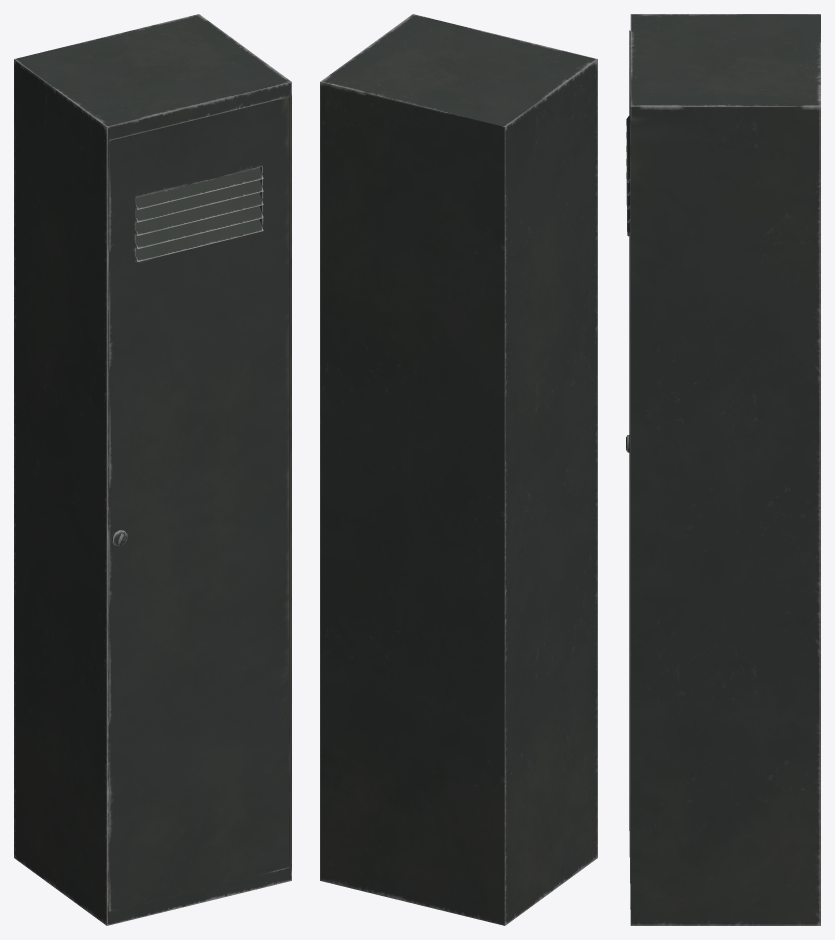
3 renders of one model, left to right at view 1: azimuth 30°, elevation 25°; view 2: azimuth 150°, elevation 25°; view 3: azimuth 270°, elevation 25°, orthographic. The views are drawn at different scales.
Parts seen in each view (by area): view 1: M.C.C; view 2: M.C.C; view 3: M.C.C.
Part boxes in pixels (x1,y1,x2,y2): M.C.C: (14,14,291,925); M.C.C: (320,14,597,925); M.C.C: (626,14,820,925).
Bounding box in the file's own units: 48.1 × 199 × 42.78.
